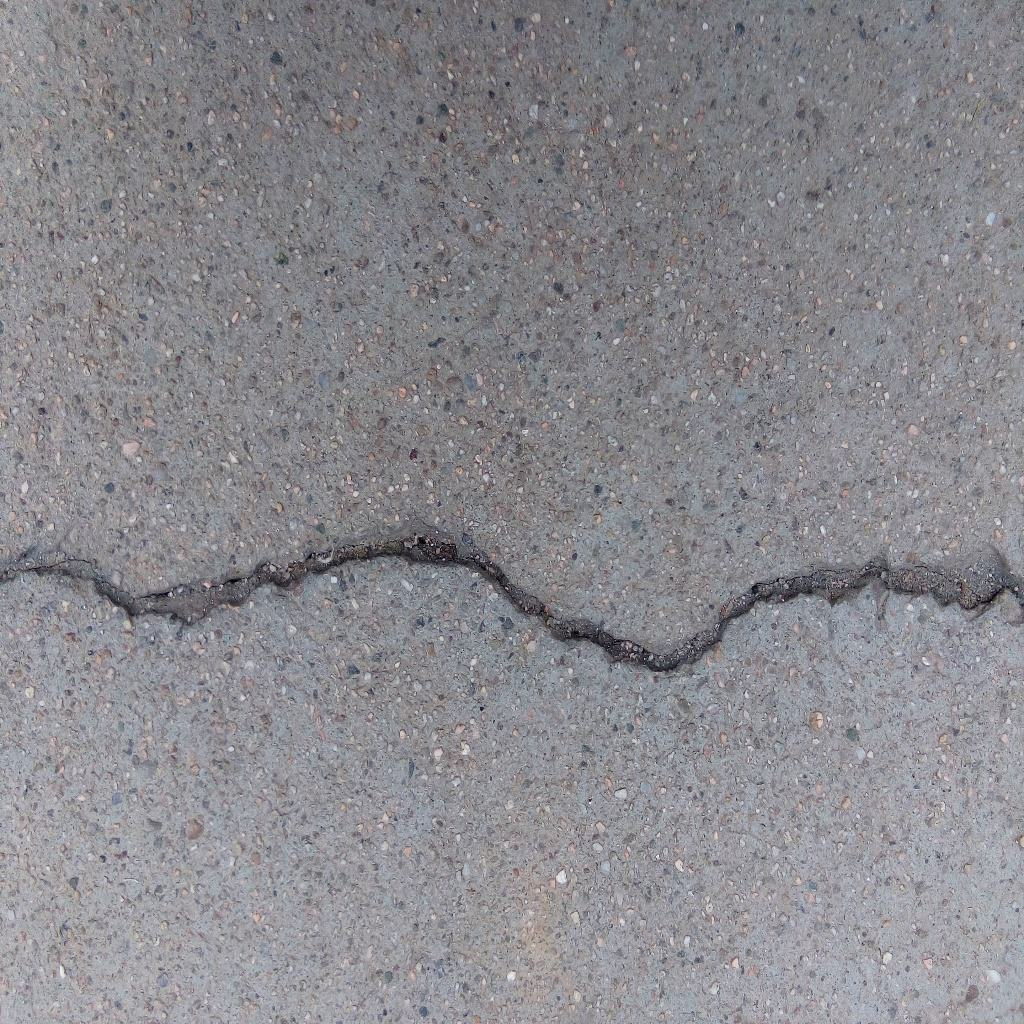Crack: (1, 534, 1024, 675)
